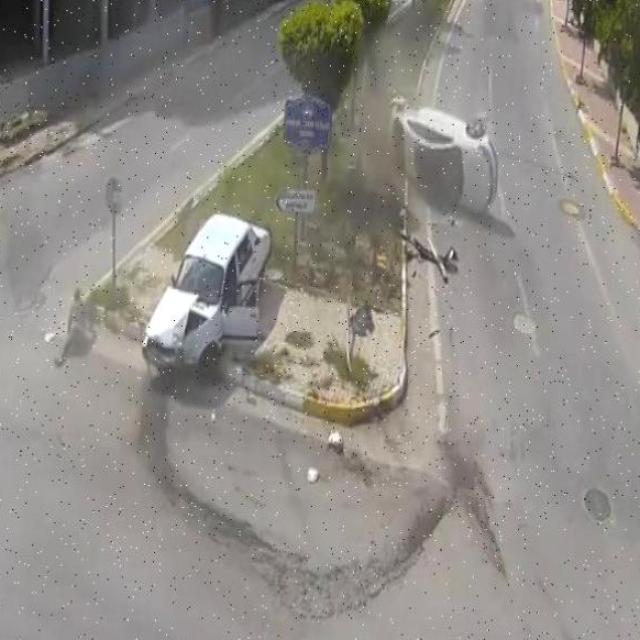accident: (131, 190, 281, 387), (380, 83, 504, 223)
